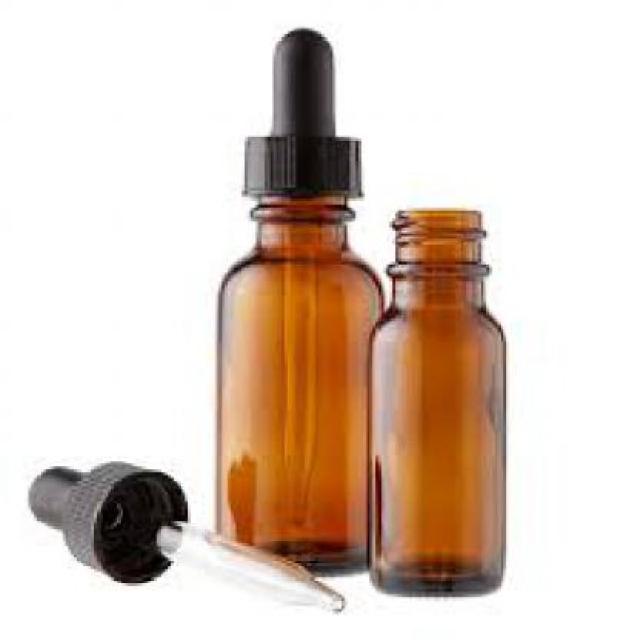kaca: (217, 194, 381, 572), (362, 204, 506, 596), (124, 516, 344, 610)
